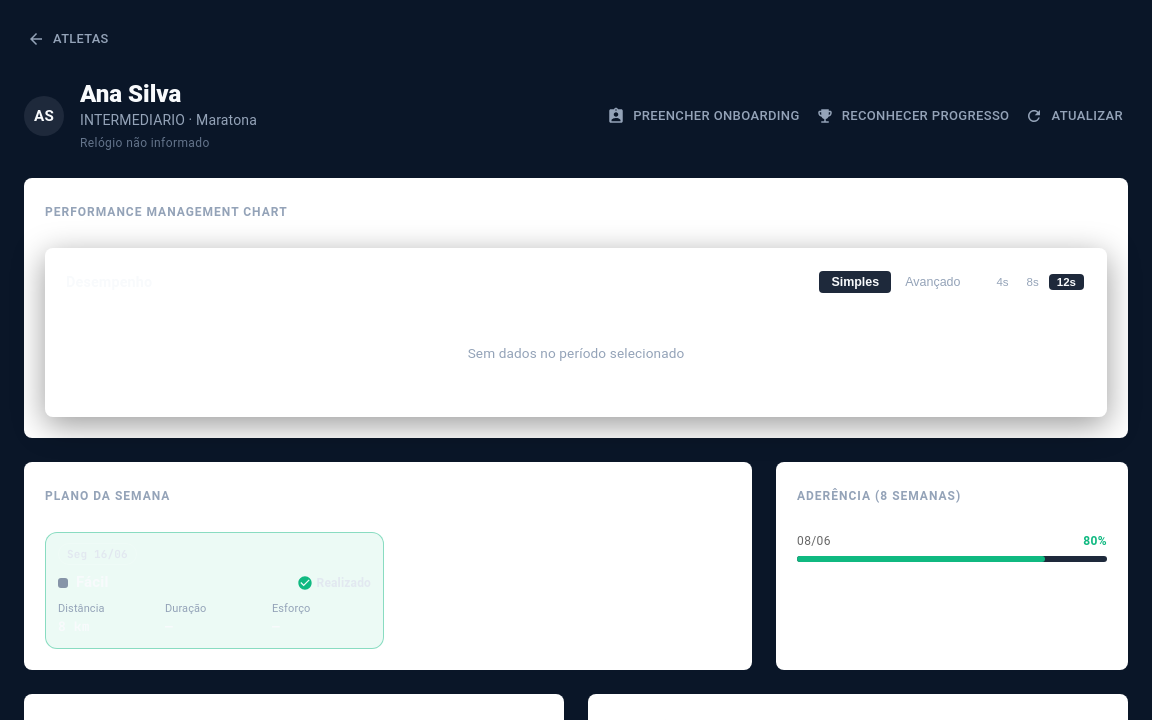
CoachAthleteProfilePage › envia o kudo com o atletaId da rota e fecha o dialog ao confirmar
Click the button "Reconhecer progresso" at (914, 116), box left=813, top=101, right=1014, bottom=132
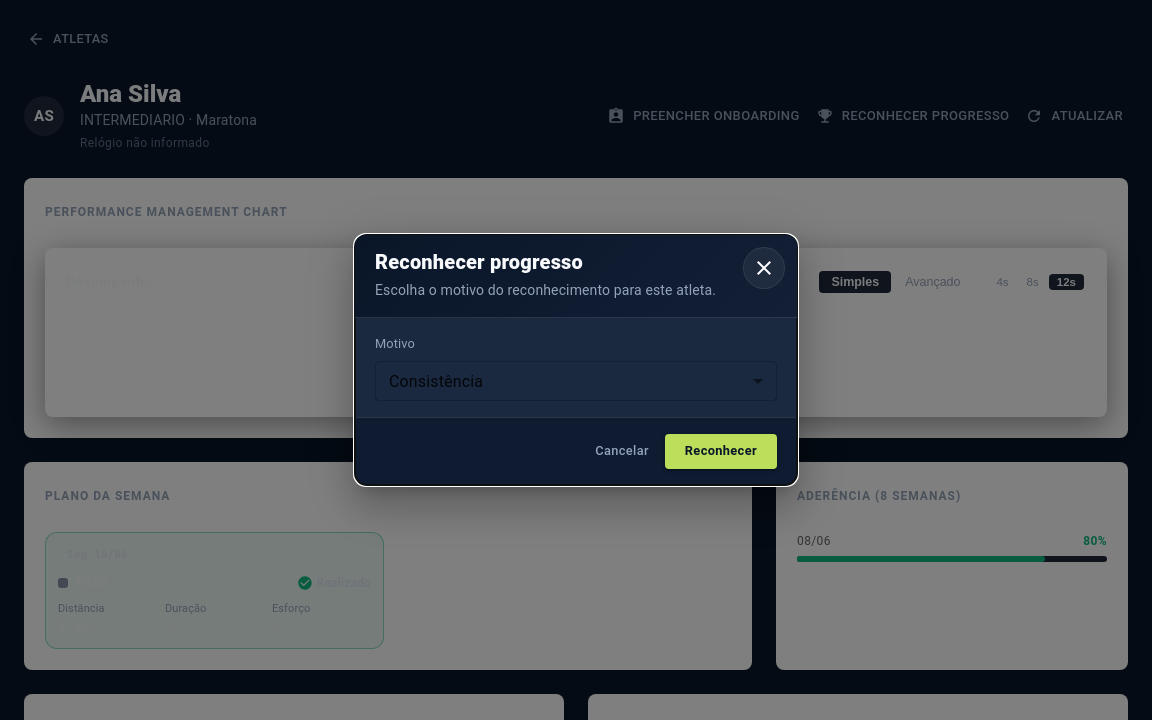
Click the button "Reconhecer" at (721, 452), box left=665, top=434, right=777, bottom=469
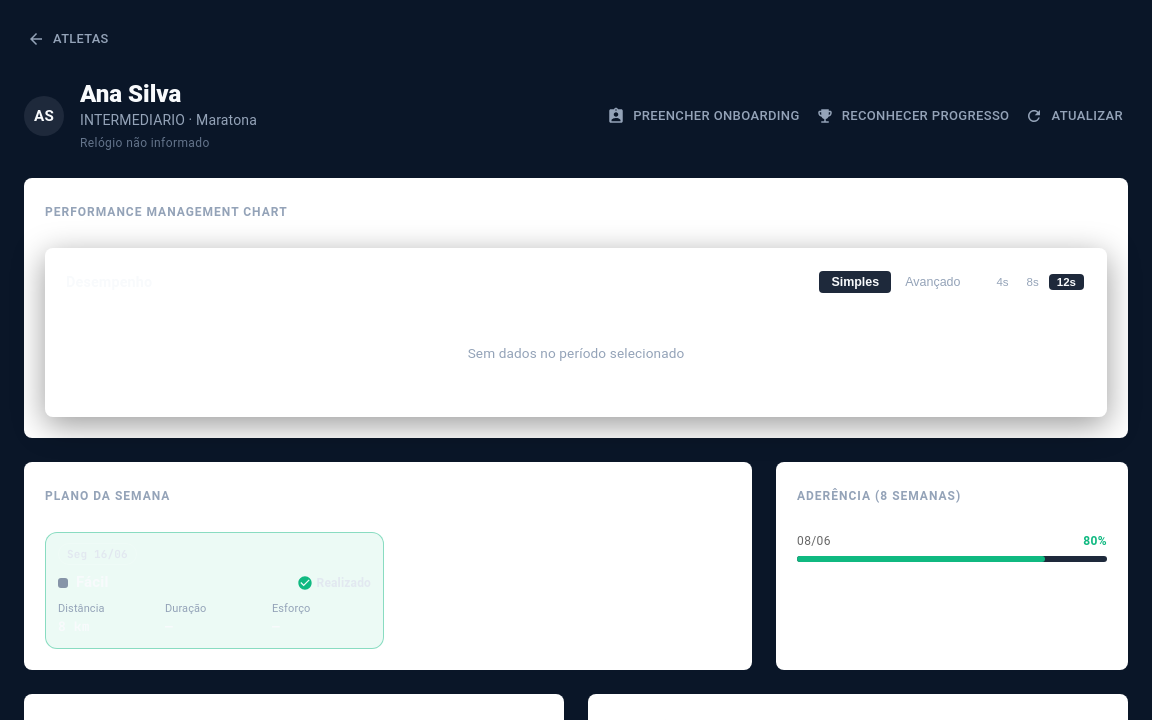
Expected: the text "Escolha o motivo do reconhecimento para este atleta." is gone
